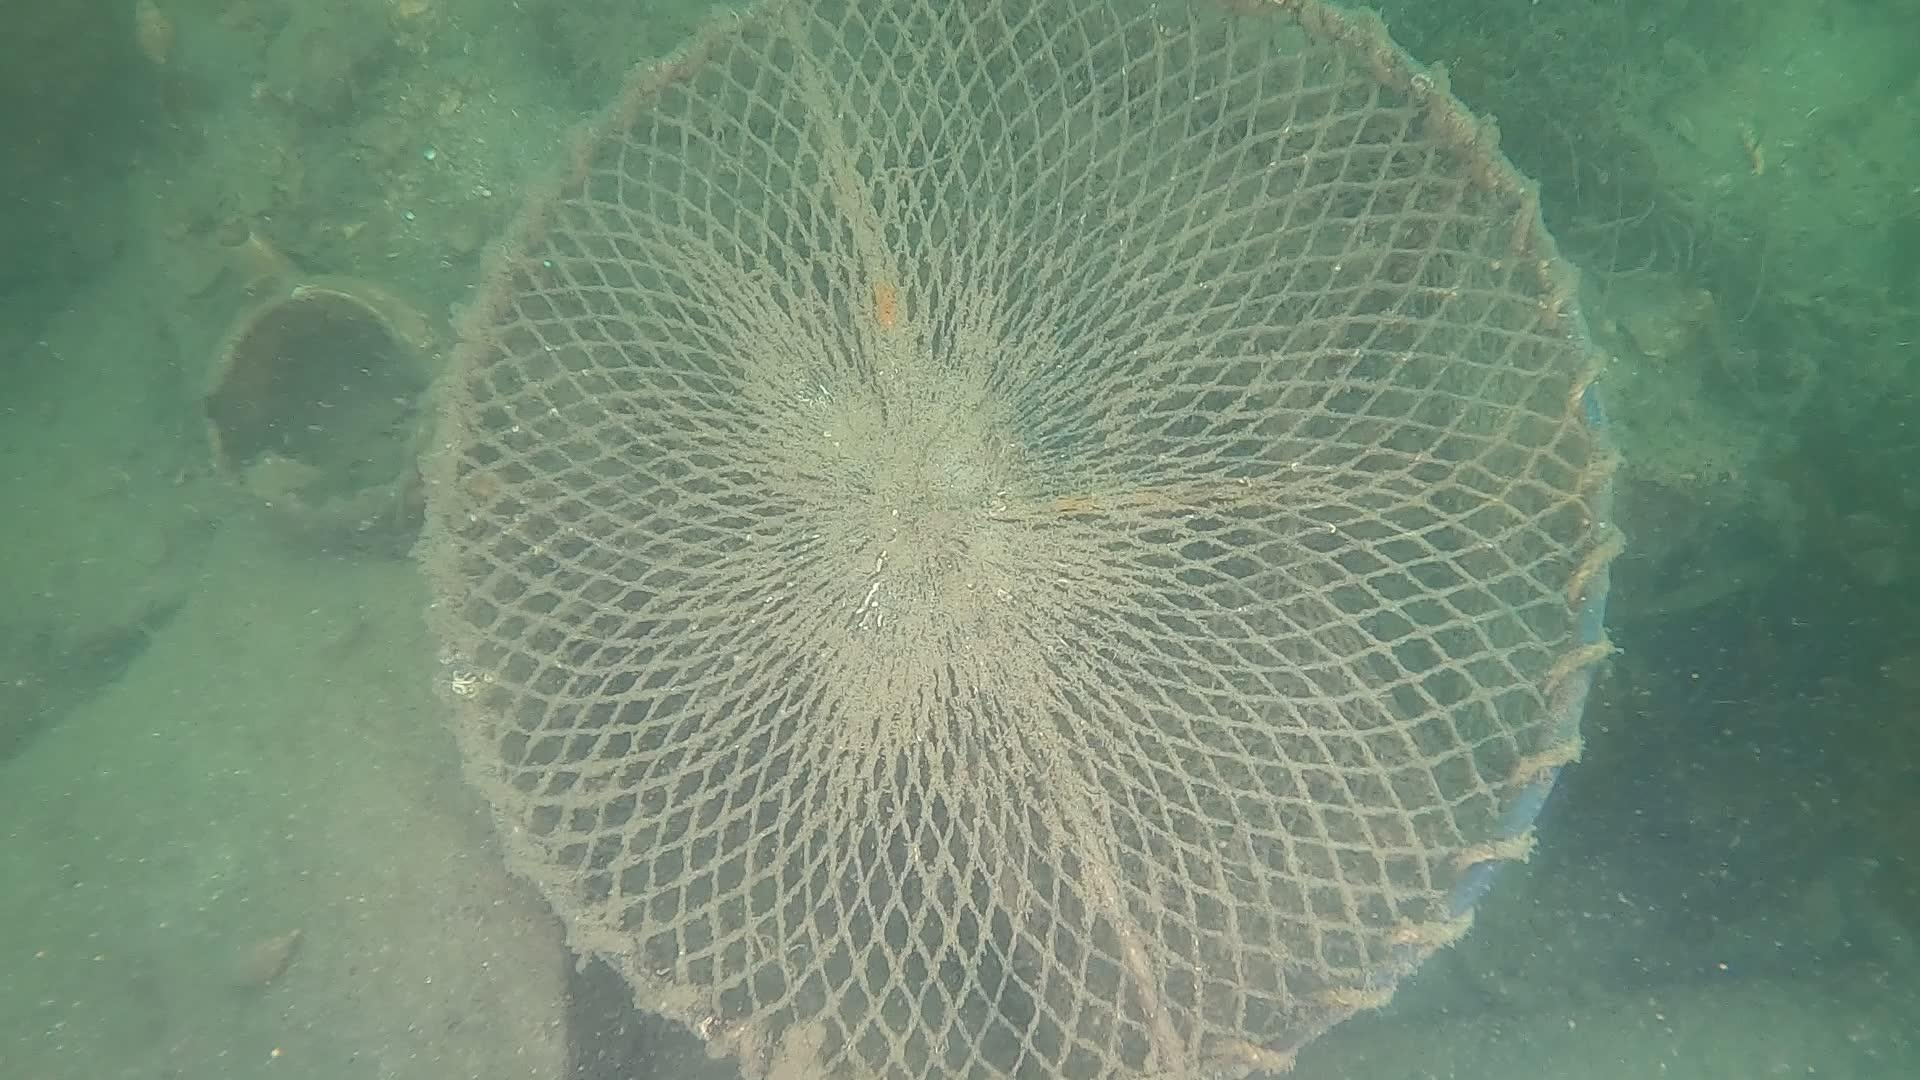circular fish trap: (422, 0, 1615, 1080)
